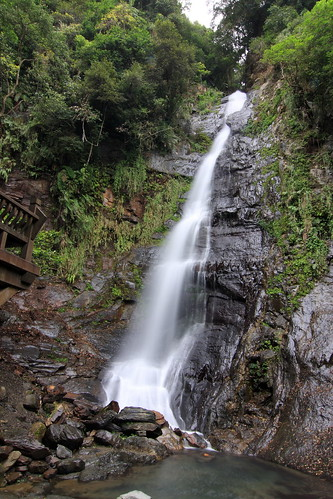wufengciWaterfall: (78, 75, 263, 435)
